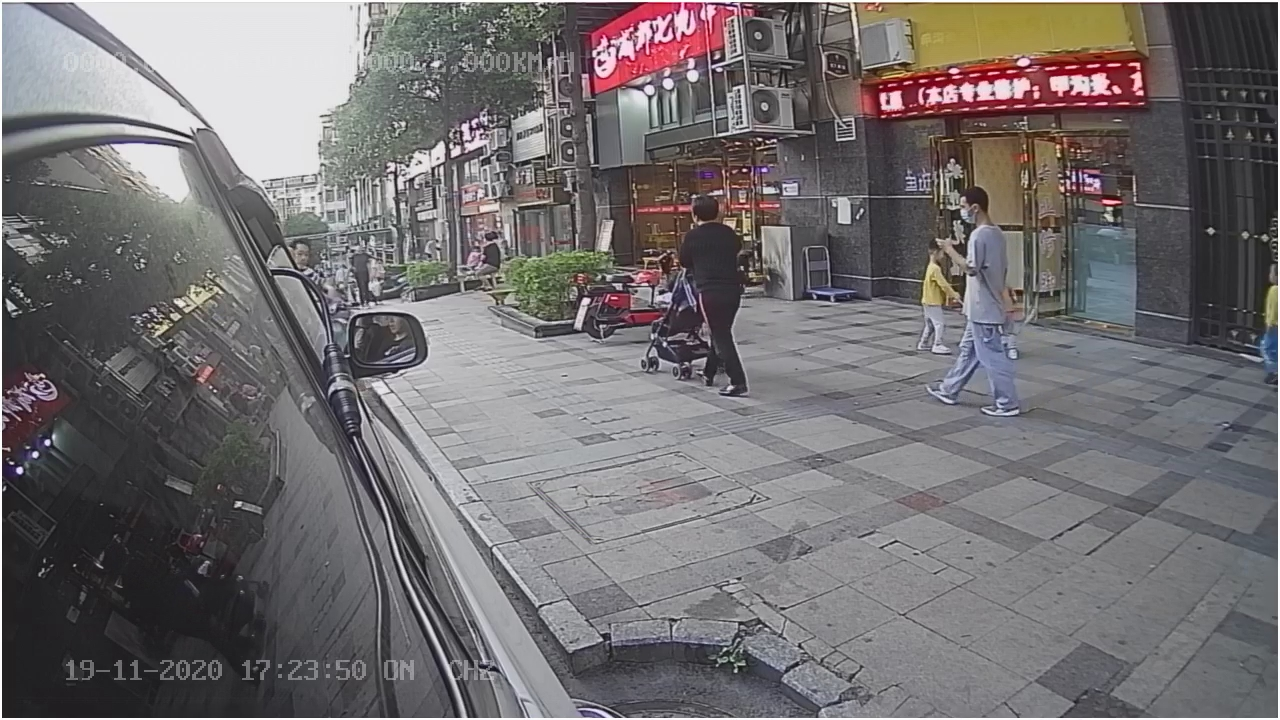person: (948, 183, 1023, 421), (673, 191, 754, 397)
